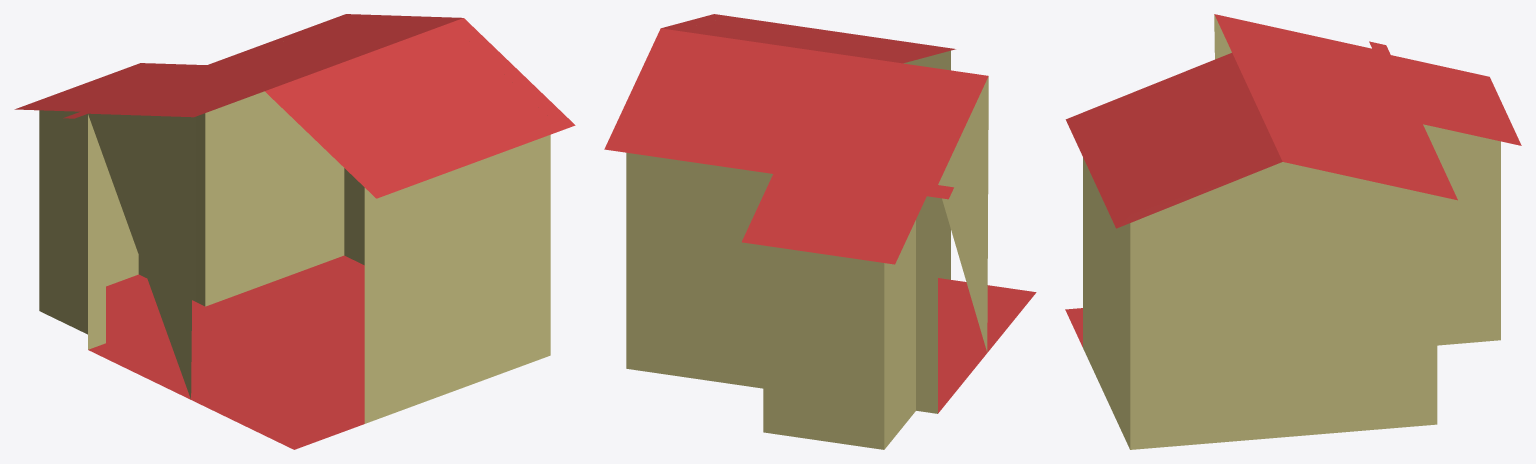
The picture shows the model from 3 angles, left to right: view 1: azimuth 30°, elevation 25°; view 2: azimuth 150°, elevation 25°; view 3: azimuth 270°, elevation 25°; orthographic projection. The views are drawn at different scales.
Bounding box in the file's own units: 12.24 × 12.88 × 8.81.
